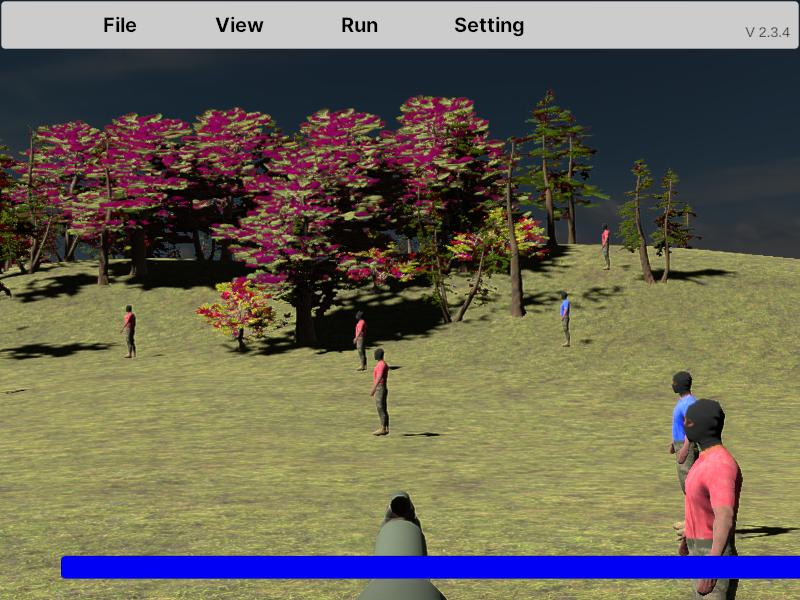Human: (681, 397, 742, 600), (671, 371, 705, 564), (371, 347, 389, 436), (354, 310, 368, 372), (121, 304, 136, 359), (561, 290, 570, 347)
